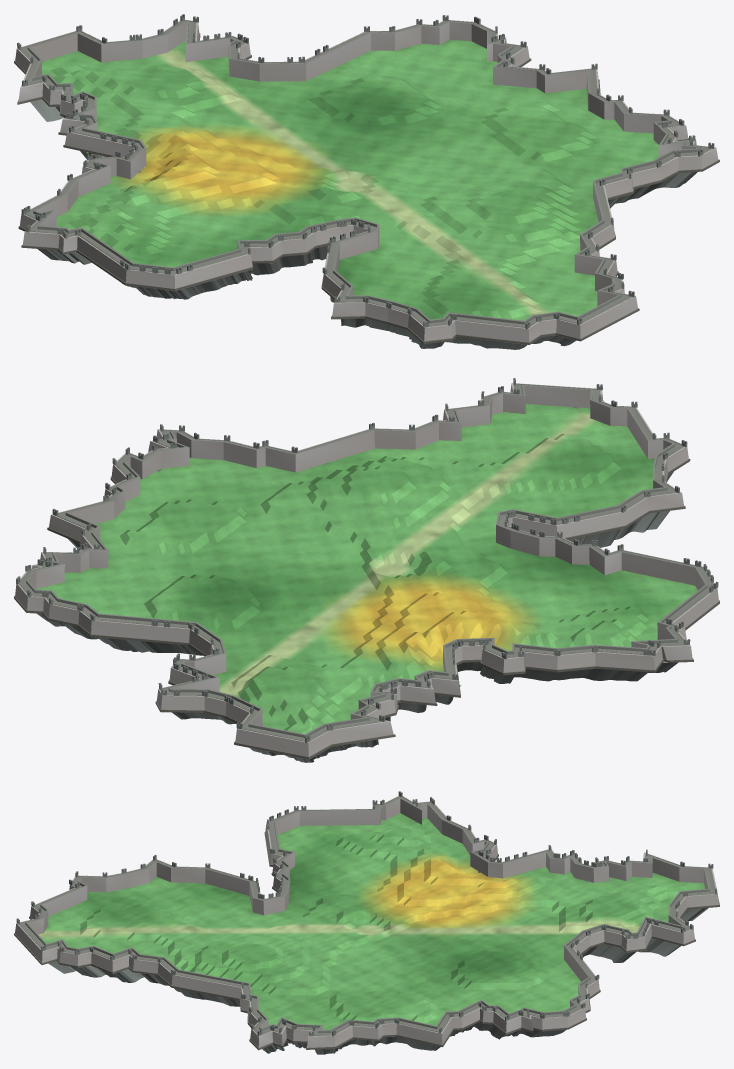
3 renders of one model, top to bottom at view 1: azimuth 30°, elevation 25°; view 2: azimuth 150°, elevation 25°; view 3: azimuth 270°, elevation 25°, orthographic. The views are drawn at different scales.
Visible parts, largest first — view 1: ground_044bda5c; view 2: ground_044bda5c; view 3: ground_044bda5c.
Part boxes in pixels (x1,y1,x2,y2): ground_044bda5c: [14, 14, 719, 349]; ground_044bda5c: [14, 378, 719, 762]; ground_044bda5c: [14, 791, 719, 1054].
Bounding box in the file's own units: 129 × 7.61 × 157.
3 materials, 1 textured.
